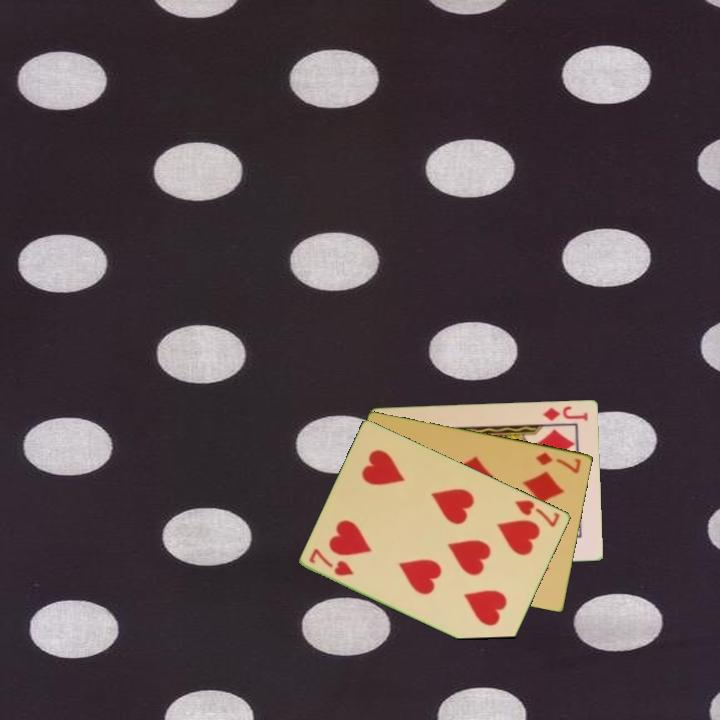7d: (532, 448, 584, 476)
7h: (511, 496, 563, 530), (306, 545, 357, 579)
Jd: (540, 402, 591, 423)
